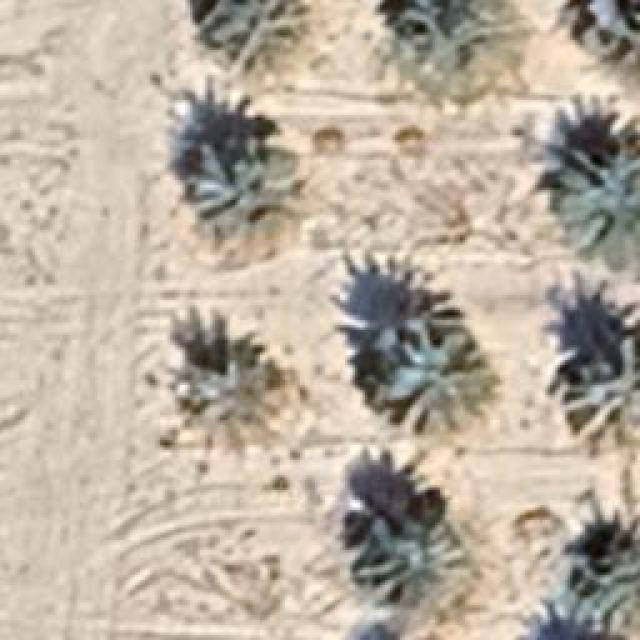PalmTree: (175, 345, 288, 460), (377, 325, 495, 433), (190, 140, 305, 242), (375, 0, 495, 88), (360, 500, 450, 602), (560, 138, 640, 242), (564, 335, 638, 445), (222, 0, 310, 70), (572, 547, 638, 635), (582, 0, 638, 85)
